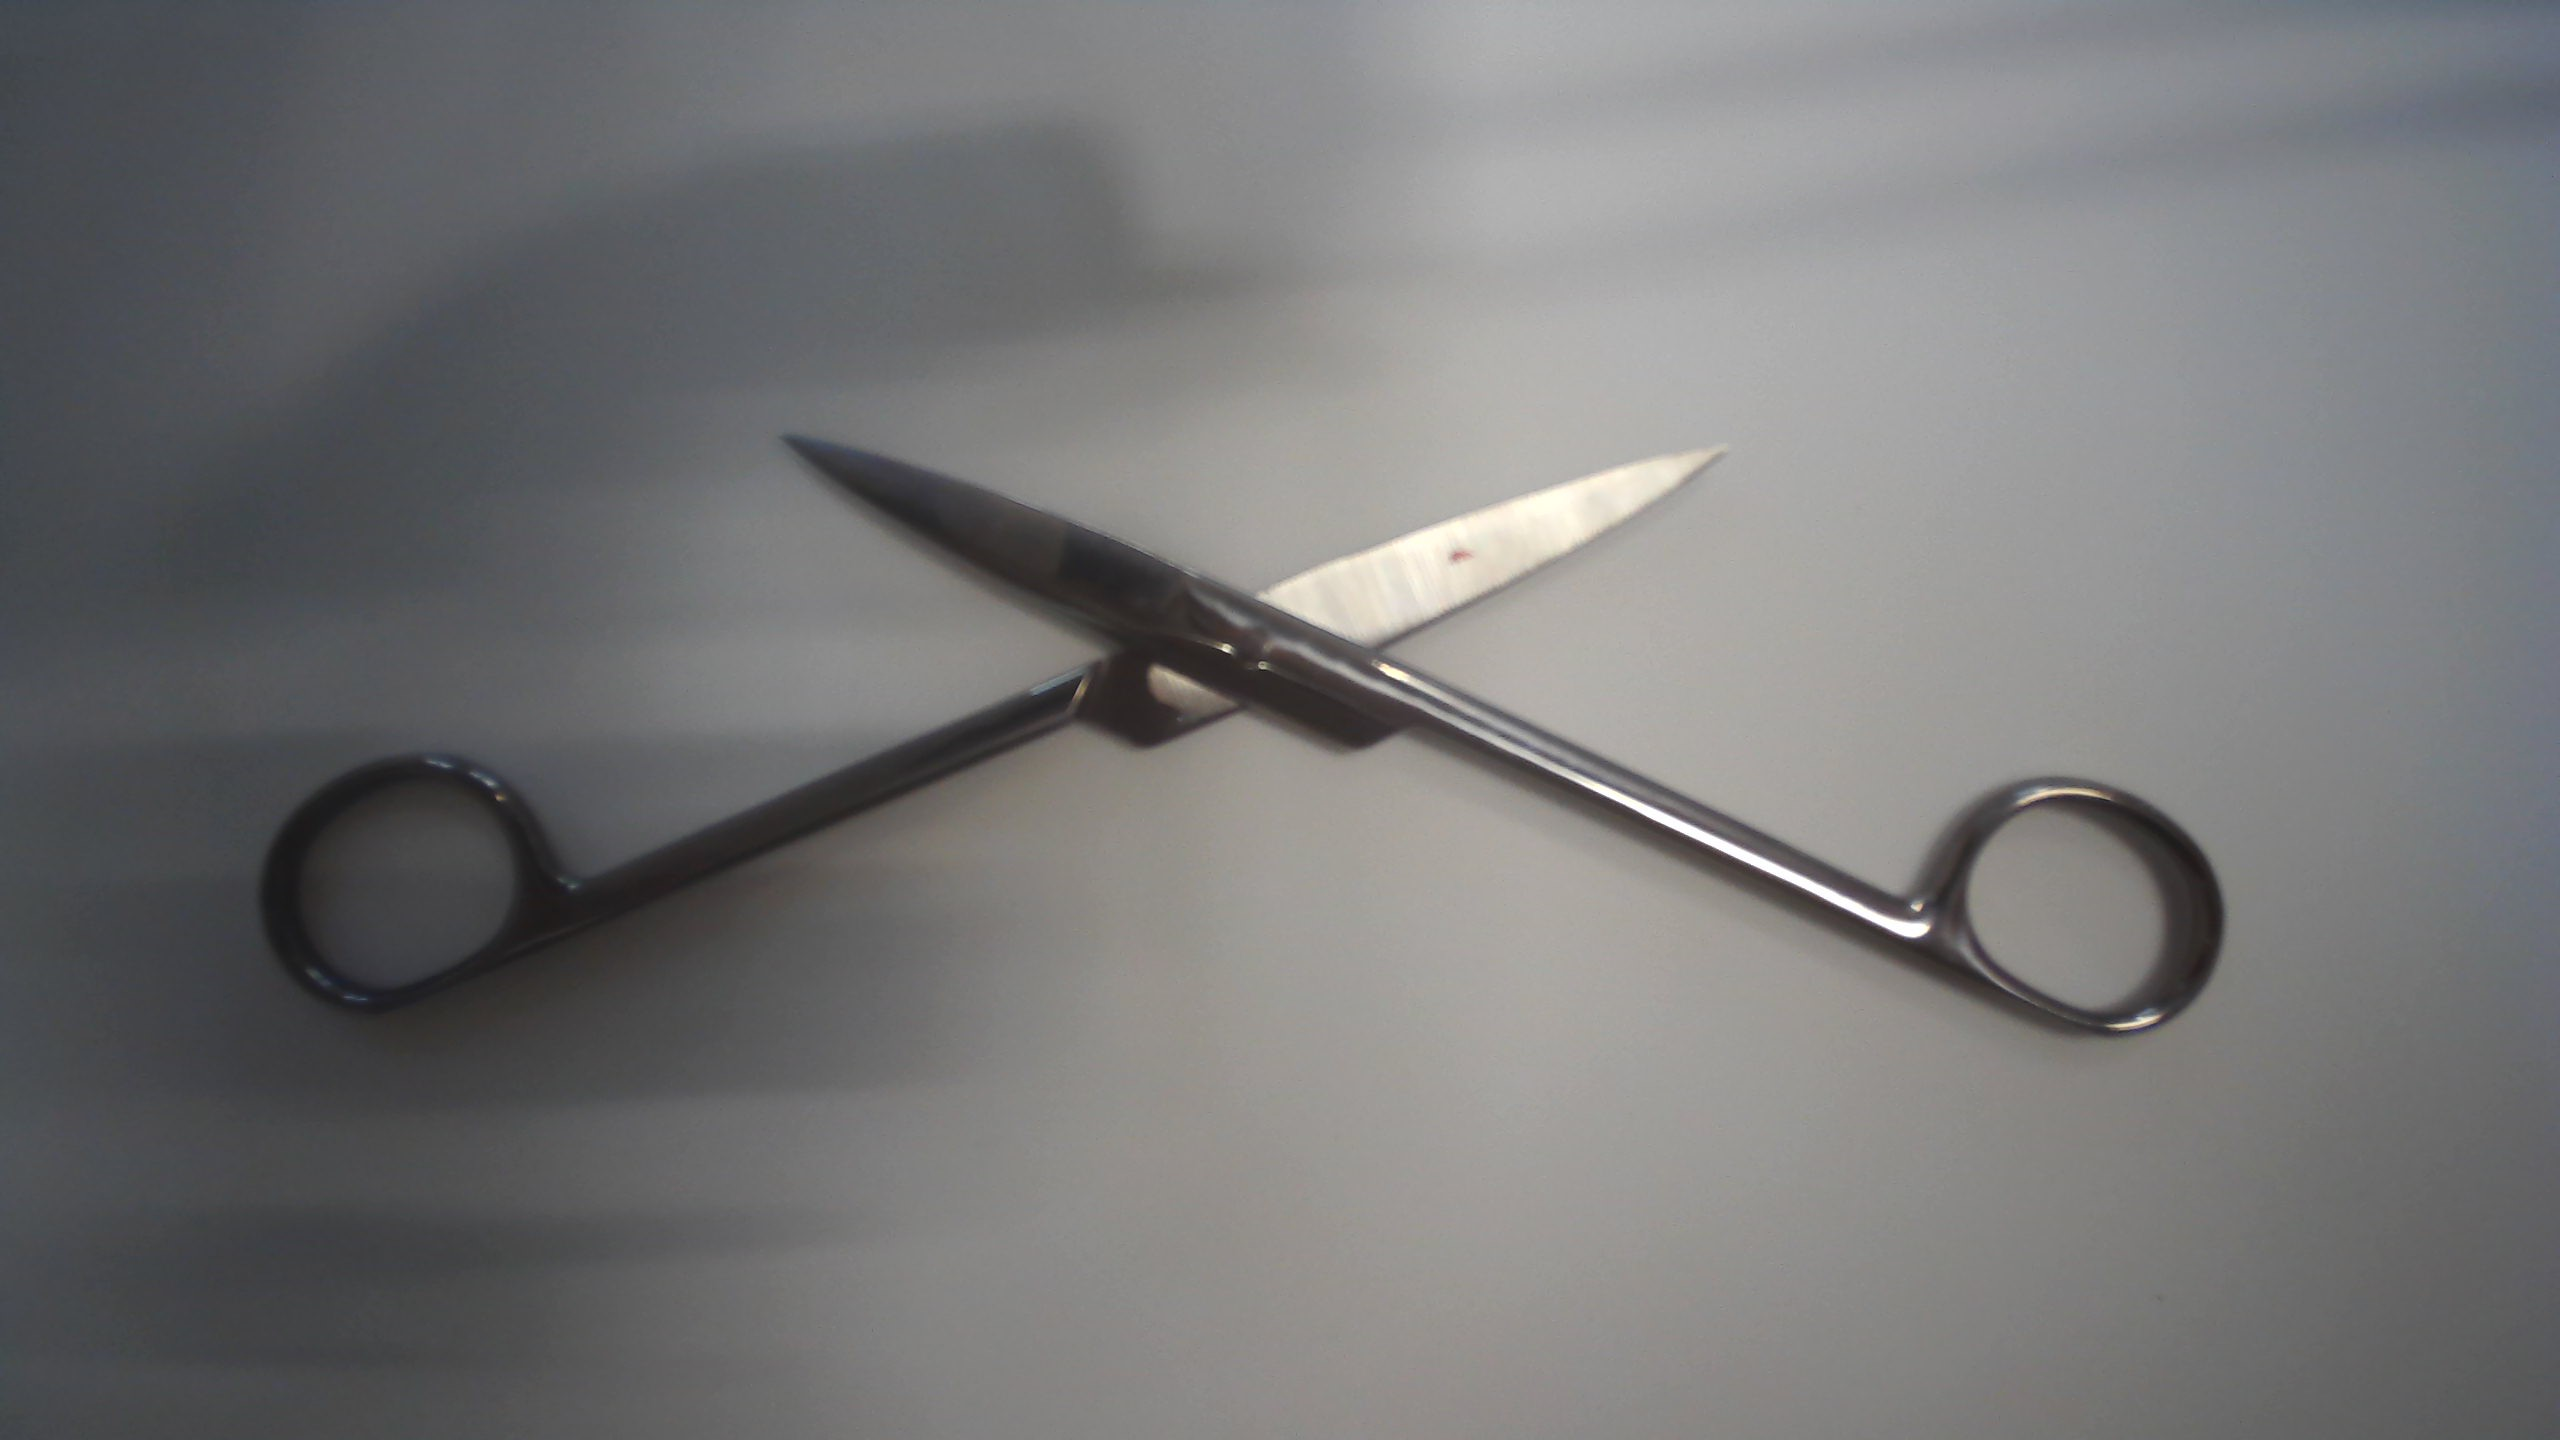Stain: (1436, 535, 1507, 578)
